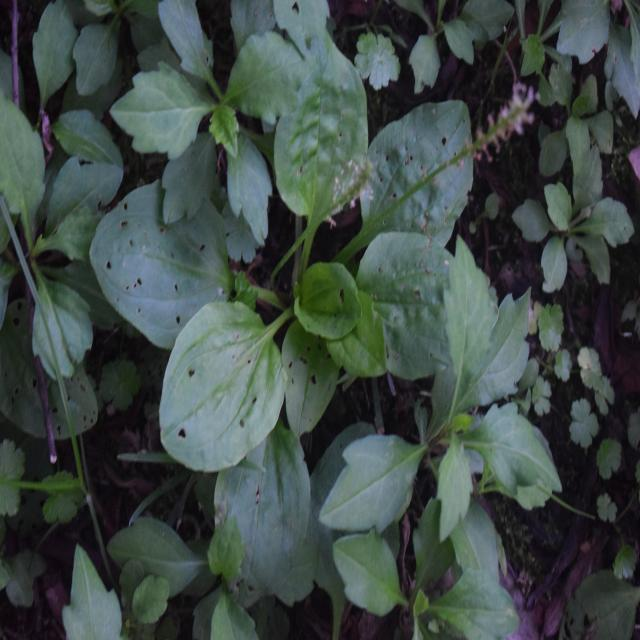plantain: (137, 130, 458, 495)
